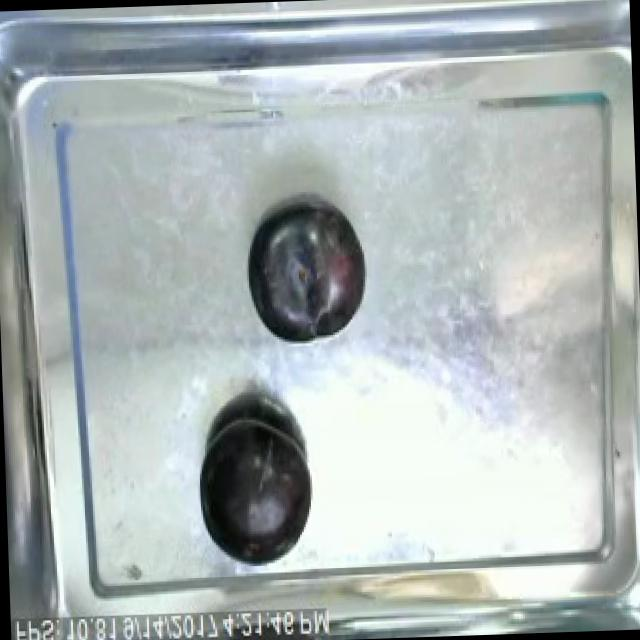Fruit: (191, 404, 318, 568), (240, 194, 371, 350)
